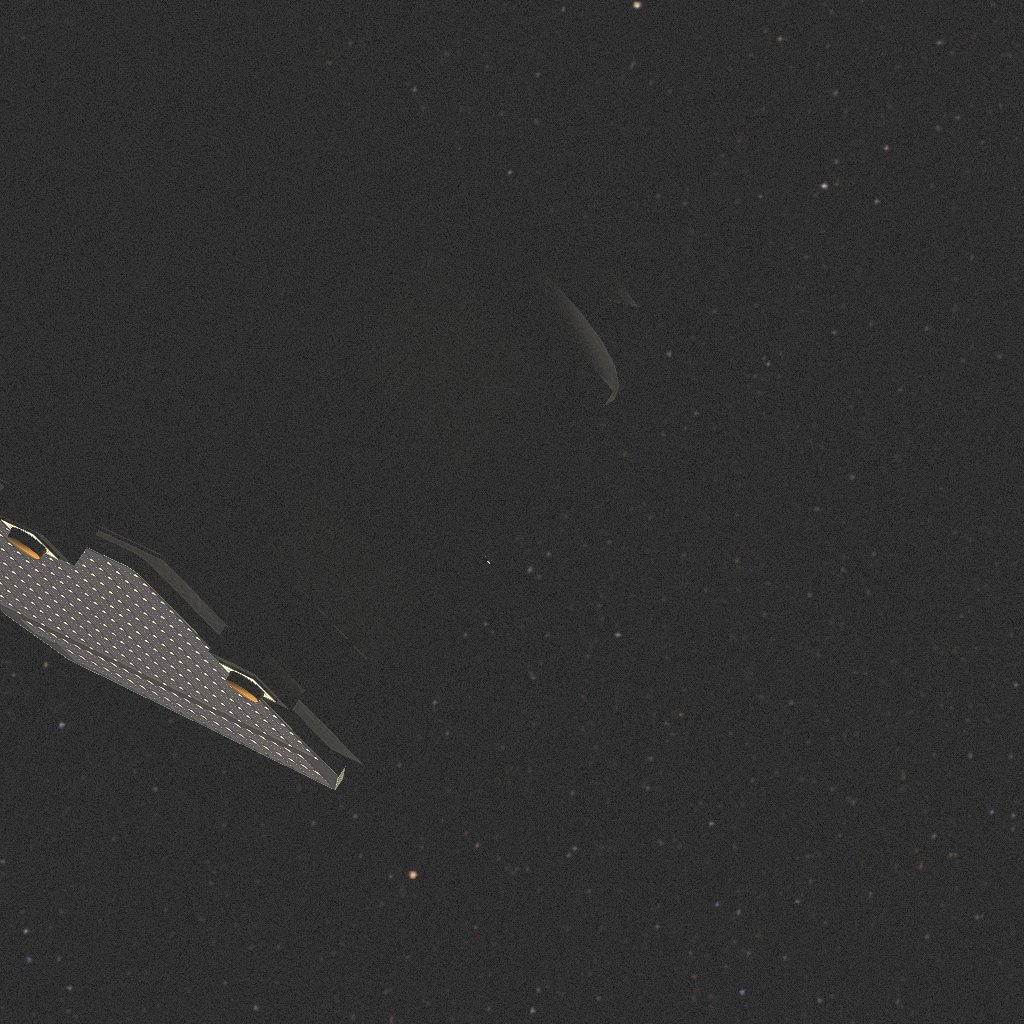proba_3_ocs: (0, 0, 647, 790)
